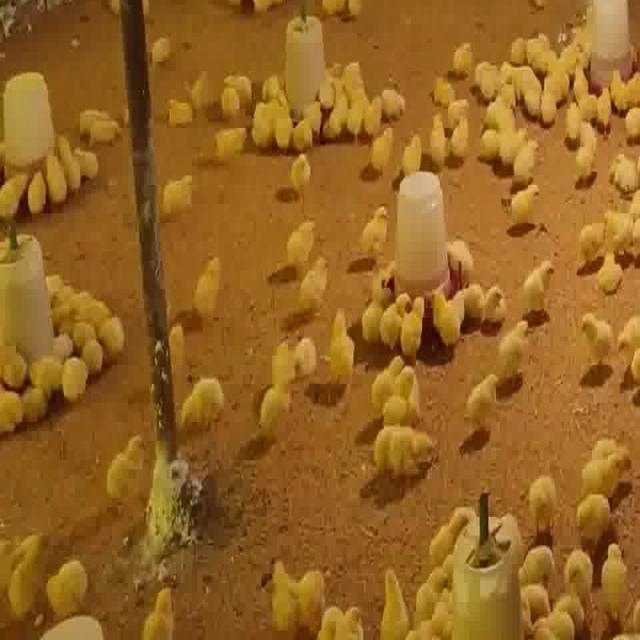poussin: (265, 557, 328, 633), (101, 432, 145, 514), (366, 424, 439, 471), (373, 358, 422, 427), (4, 531, 41, 622), (361, 574, 410, 640), (582, 440, 636, 497), (318, 311, 354, 391), (181, 374, 223, 442), (255, 373, 298, 435), (48, 556, 90, 618), (307, 598, 369, 640), (519, 257, 560, 318), (138, 580, 178, 640), (269, 336, 319, 384), (427, 509, 469, 566), (498, 316, 536, 376), (534, 594, 583, 640), (576, 310, 614, 368), (284, 212, 321, 271), (528, 470, 562, 534), (427, 288, 461, 351), (160, 171, 199, 224), (362, 287, 393, 350), (466, 372, 504, 422), (557, 546, 593, 598), (614, 316, 640, 388), (362, 196, 393, 256), (0, 169, 33, 224), (302, 259, 334, 315), (568, 499, 611, 539), (602, 541, 624, 619), (152, 93, 196, 132), (216, 72, 252, 119), (192, 257, 218, 322), (466, 279, 508, 319), (414, 564, 446, 616), (212, 123, 248, 167), (605, 217, 640, 261), (504, 185, 544, 223), (385, 294, 412, 348), (367, 129, 398, 174), (473, 56, 506, 98), (403, 298, 428, 352), (286, 154, 316, 198), (71, 145, 101, 187), (426, 116, 448, 172), (62, 355, 90, 399), (608, 153, 636, 195), (44, 159, 68, 207), (515, 68, 540, 113), (502, 123, 530, 162), (446, 41, 472, 83), (47, 284, 86, 312), (28, 355, 62, 387), (19, 389, 49, 425), (0, 394, 24, 439), (57, 146, 83, 187), (524, 543, 552, 580), (191, 66, 214, 111), (345, 97, 366, 145), (429, 74, 460, 106), (250, 105, 272, 150), (102, 315, 125, 358), (379, 86, 406, 122), (90, 116, 120, 148), (28, 169, 48, 216), (147, 31, 170, 70), (0, 350, 26, 384), (611, 72, 631, 116), (289, 119, 314, 154), (272, 107, 291, 153), (580, 223, 604, 259), (598, 257, 624, 289), (516, 139, 536, 180), (322, 99, 341, 142), (452, 118, 471, 160), (570, 60, 588, 104), (339, 62, 362, 96), (365, 92, 384, 133), (508, 34, 530, 68), (487, 97, 511, 127), (446, 93, 470, 123), (86, 336, 104, 374), (85, 293, 111, 319), (68, 321, 95, 346), (572, 150, 596, 178), (576, 122, 598, 152), (481, 131, 500, 165), (542, 72, 568, 96), (406, 138, 423, 174), (599, 90, 613, 132), (542, 88, 556, 128), (52, 333, 72, 360), (565, 104, 579, 141), (56, 303, 76, 327), (533, 52, 559, 70), (528, 32, 544, 61)
